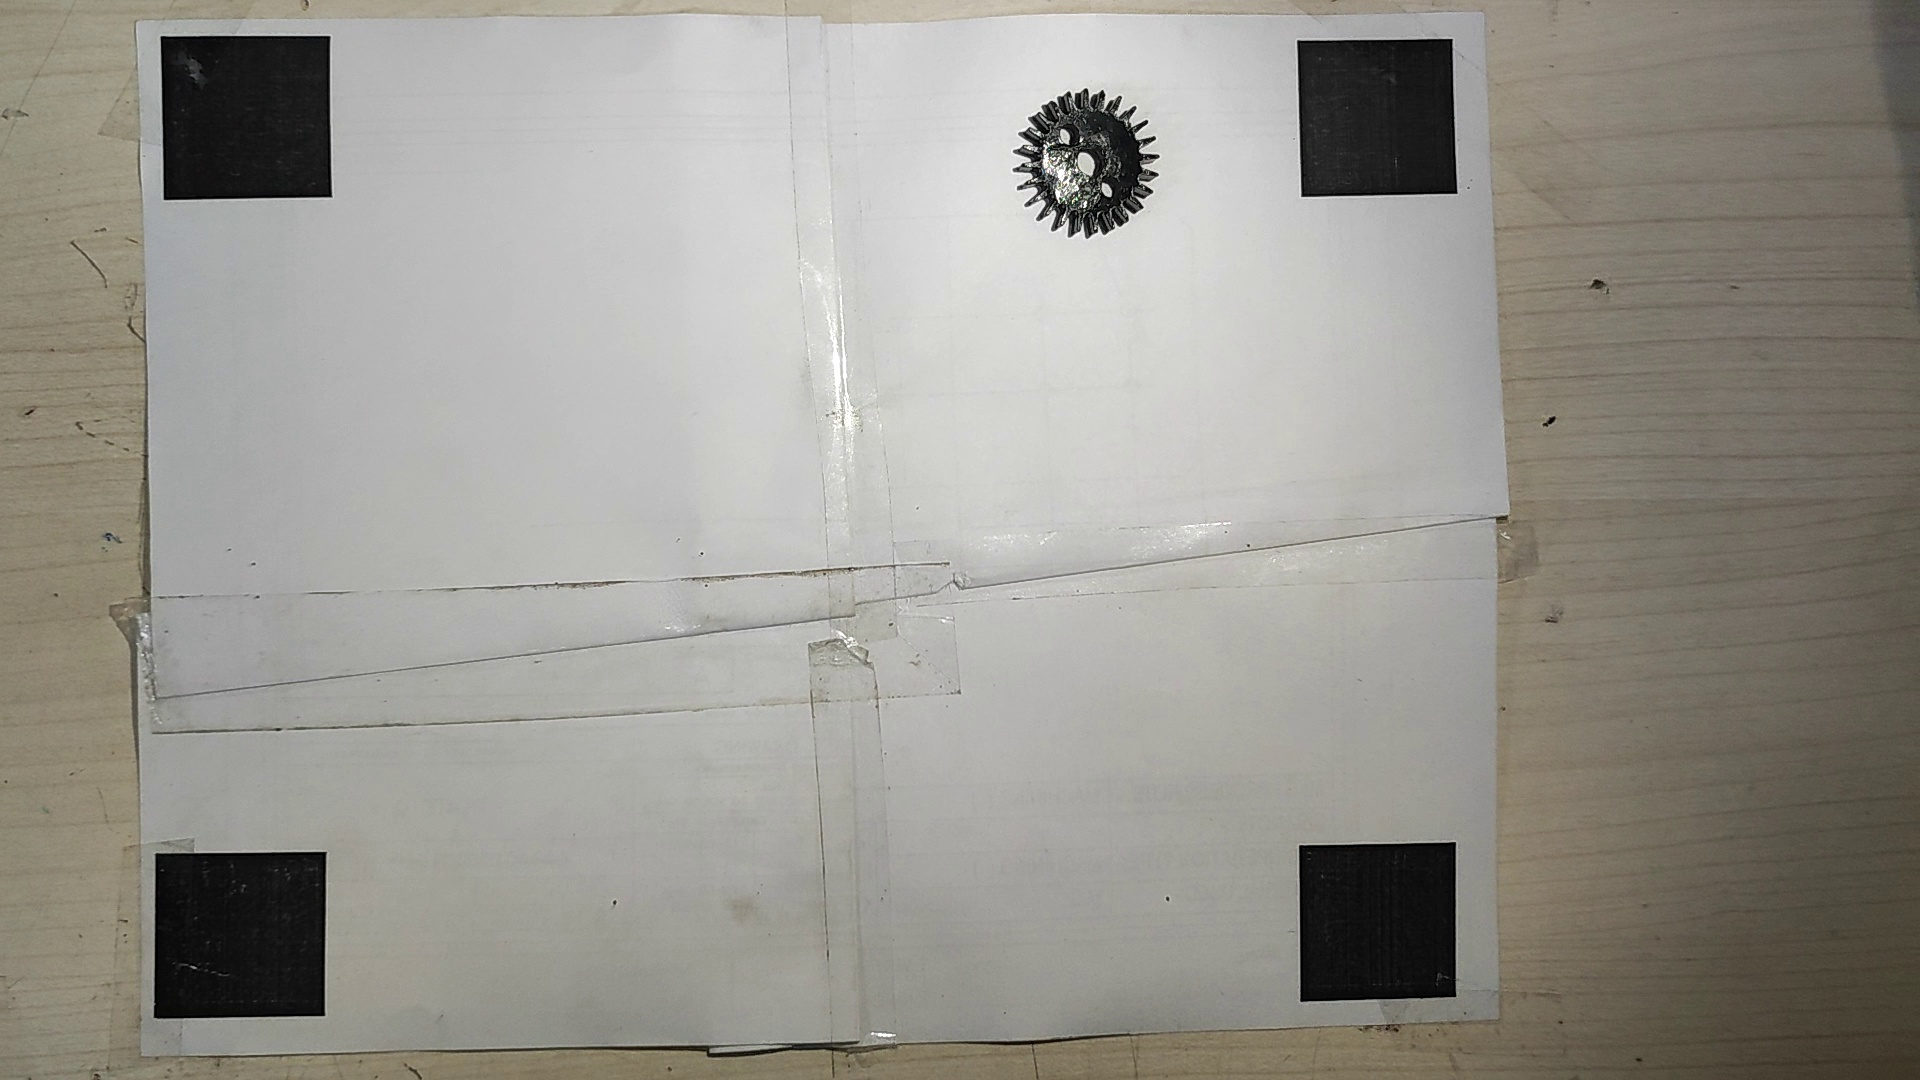Gear: (1007, 84, 1162, 244)
